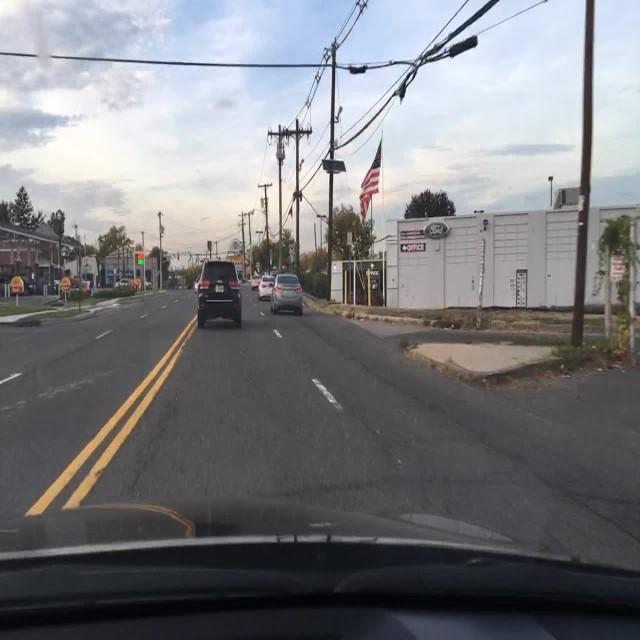normal: (1, 510, 636, 640), (196, 259, 243, 326), (271, 274, 304, 314), (259, 274, 280, 301)
